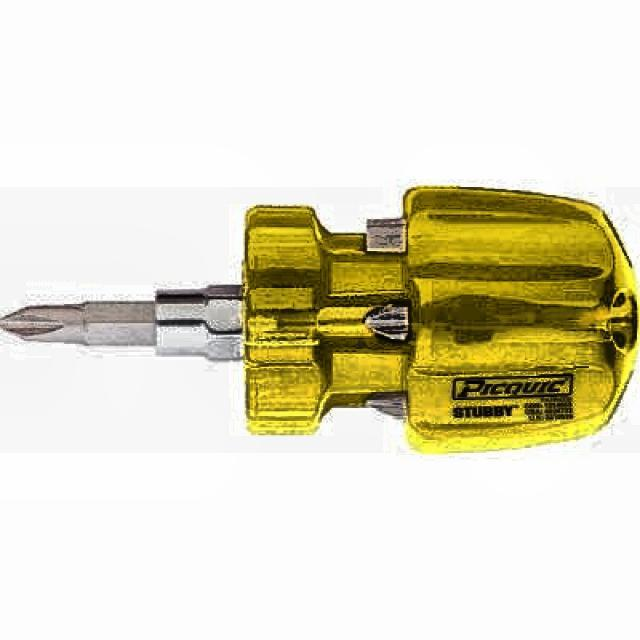screwdriver: (0, 189, 640, 456)
